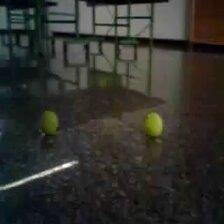tennis: (40, 110, 58, 138), (144, 113, 163, 138)
